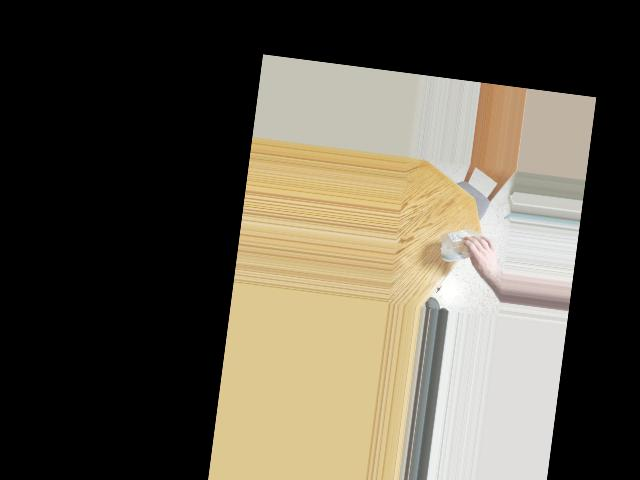cheese: (441, 225, 483, 263)
